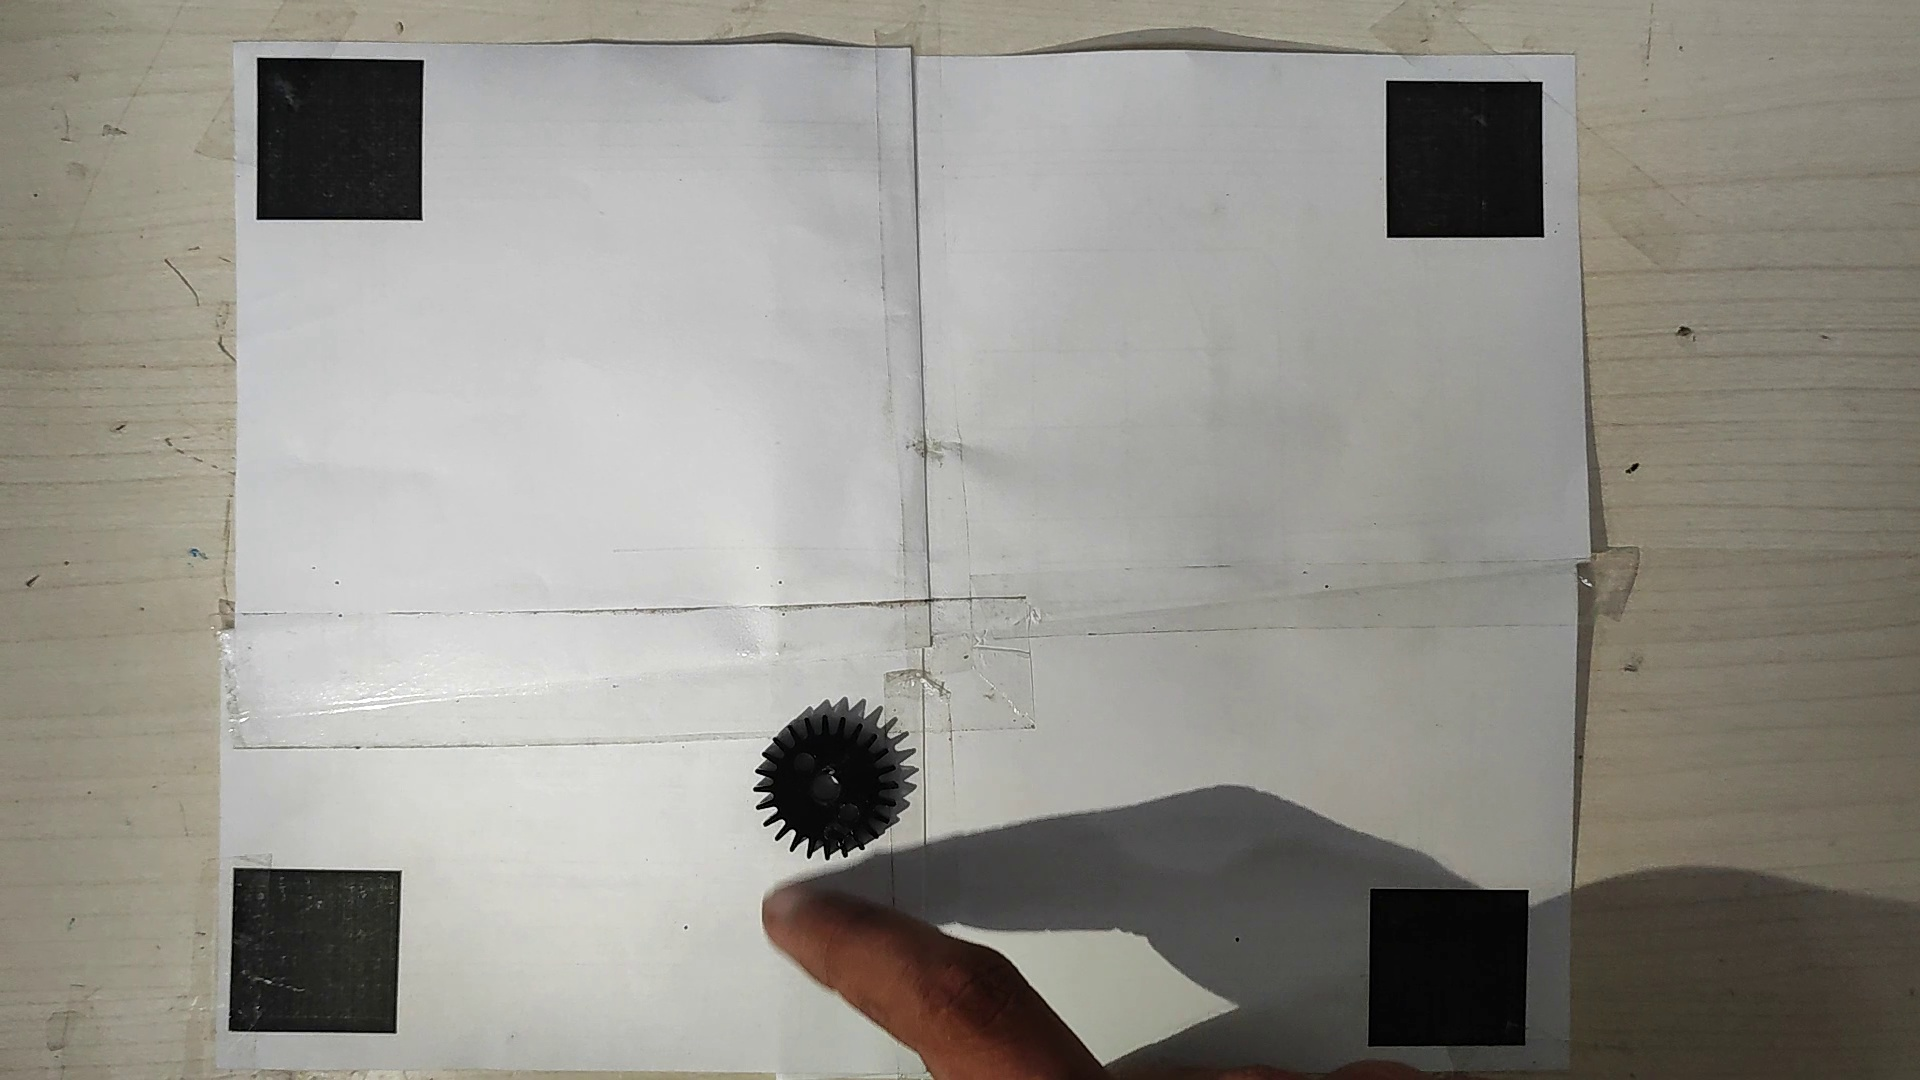Gear: (749, 707, 911, 865)
